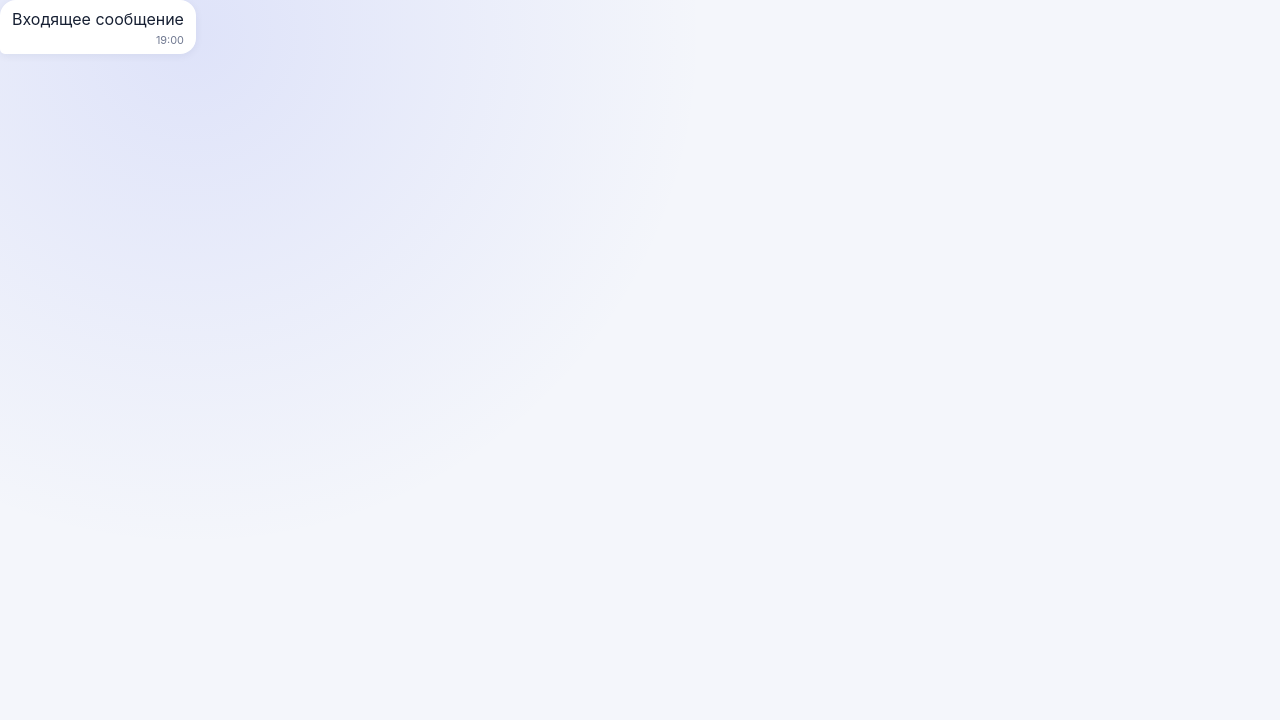
Test: message context menu › closes on an outside press and clamps to the viewport
Right-click the text "Входящее сообщение": (98, 27) [0,0,196,54]
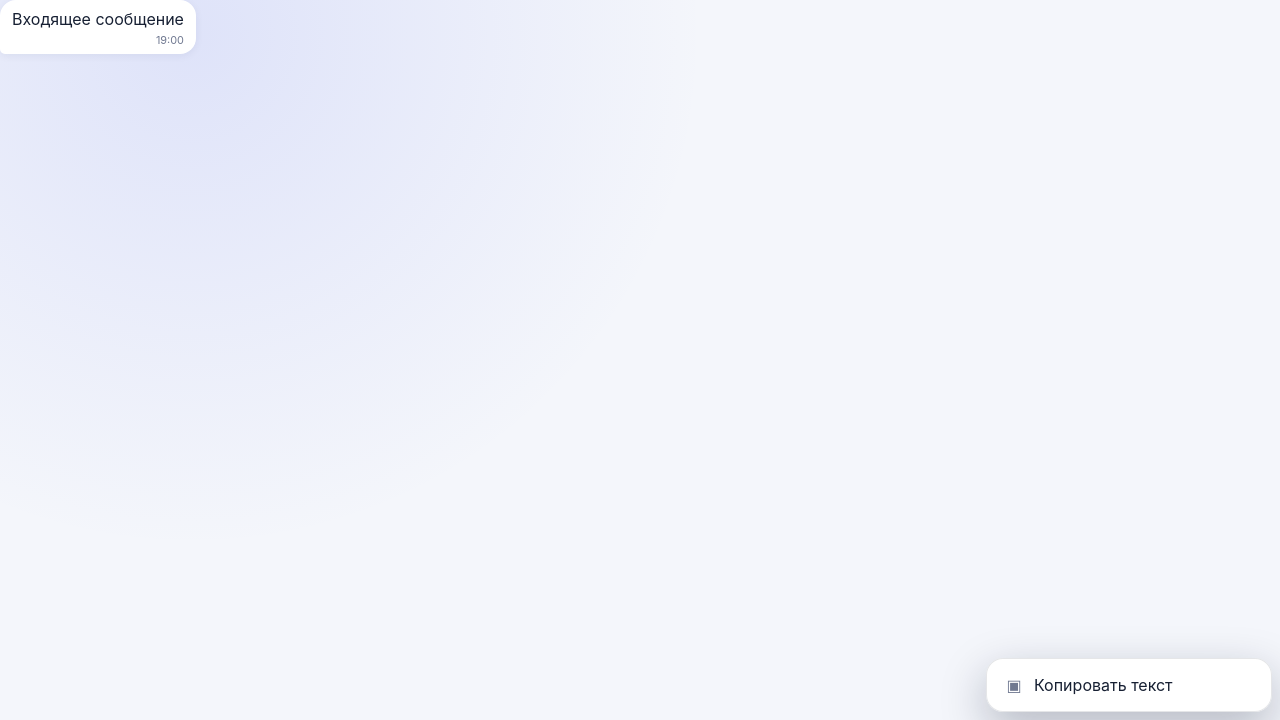
Press the mouse on the element with test id "context-menu-backdrop": (640, 360) [0,0,1279,719]
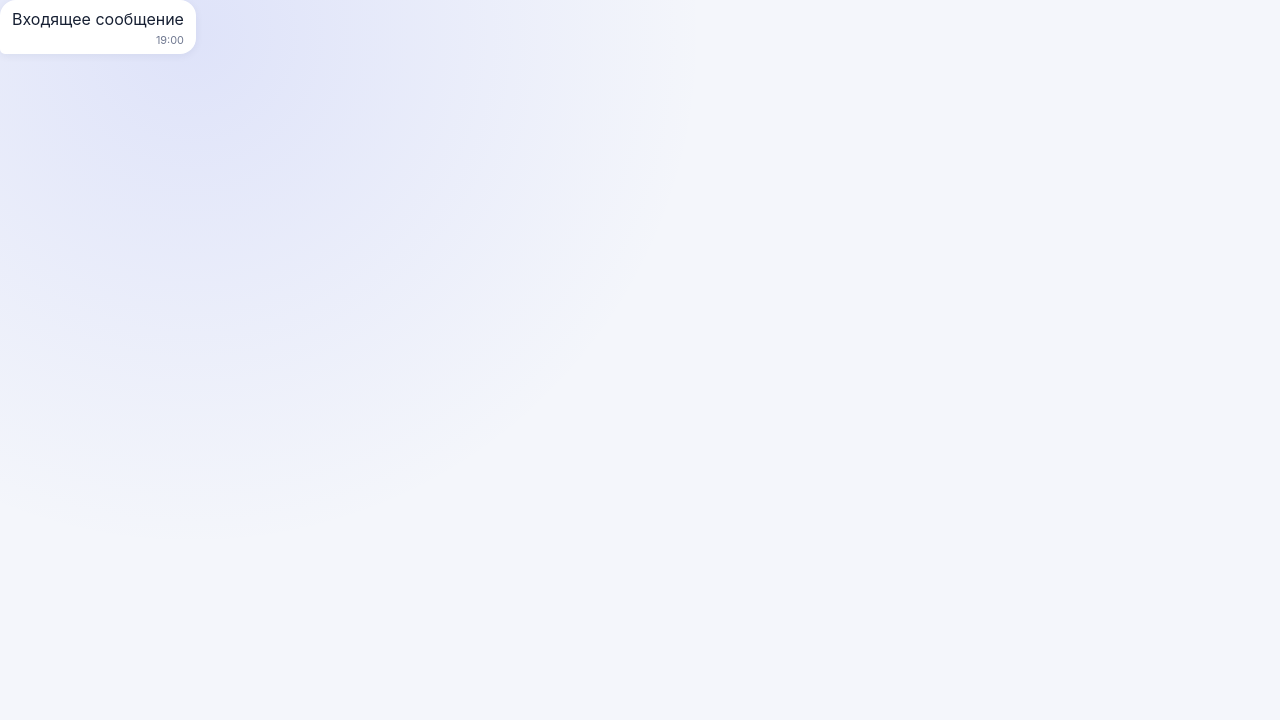
Check: the menu is gone
